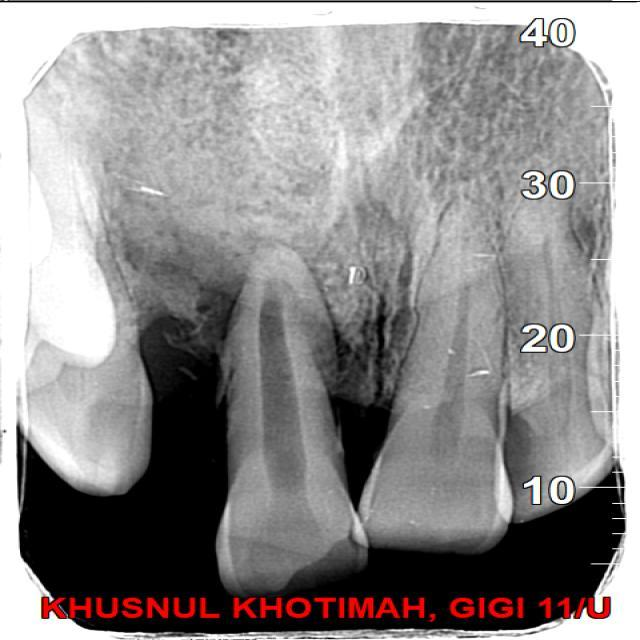individual-tooth-8tto: (207, 257, 378, 596), (357, 199, 509, 555)
